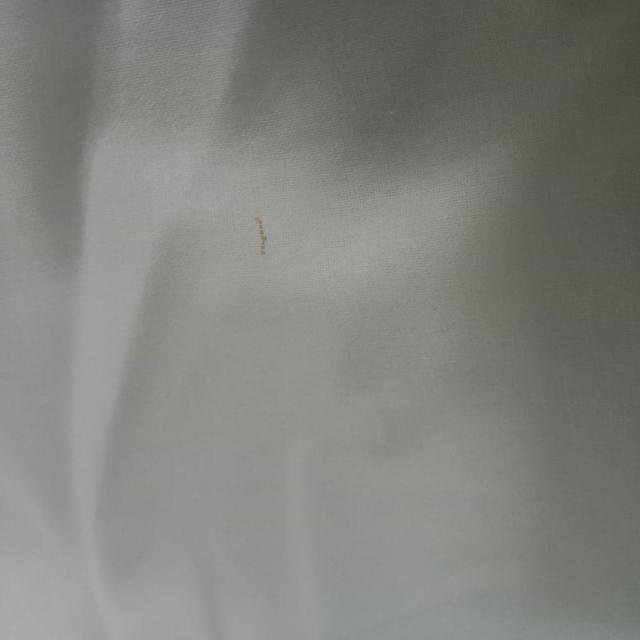contamination: (243, 213, 280, 258)
